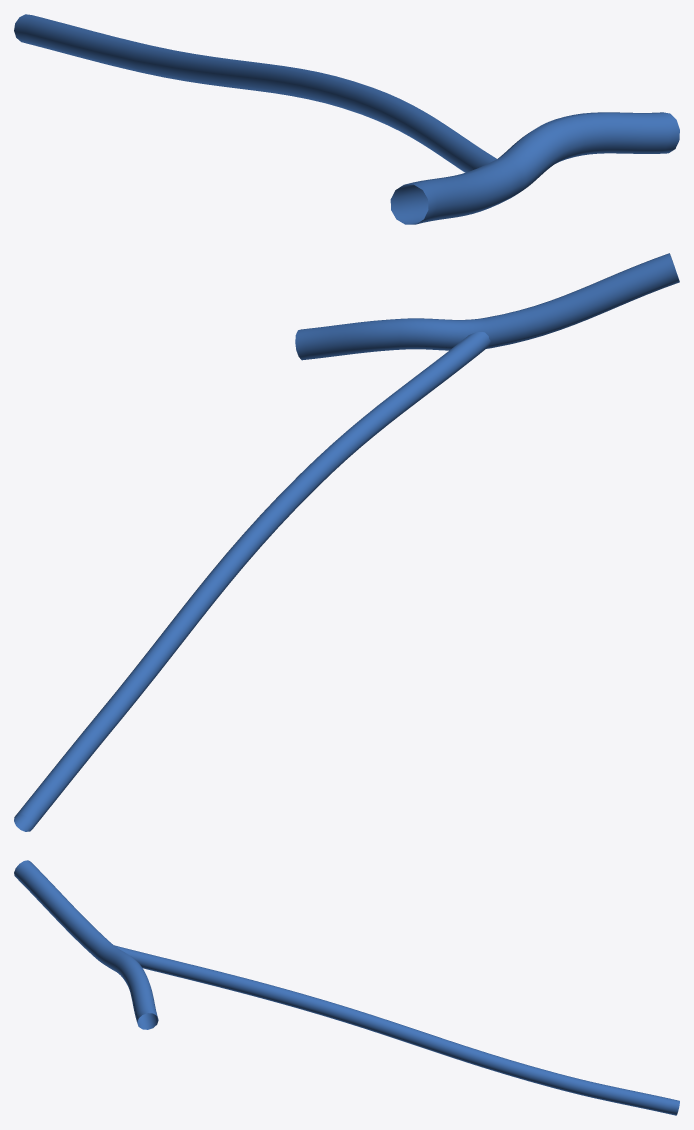
3 renders of one model, top to bottom at view 1: azimuth 30°, elevation 25°; view 2: azimuth 150°, elevation 25°; view 3: azimuth 270°, elevation 25°, orthographic. The views are drawn at different scales.
Visible parts, largest first — view 1: 左侧肘正中静脉; view 2: 左侧肘正中静脉; view 3: 左侧肘正中静脉.
Part boxes in pixels (x1,y1,x2,y2): 左侧肘正中静脉: [14, 14, 679, 224]; 左侧肘正中静脉: [14, 253, 679, 831]; 左侧肘正中静脉: [14, 860, 679, 1115].
Size of the model in its own units: 0.0594 by 0.0533 by 0.1658.
